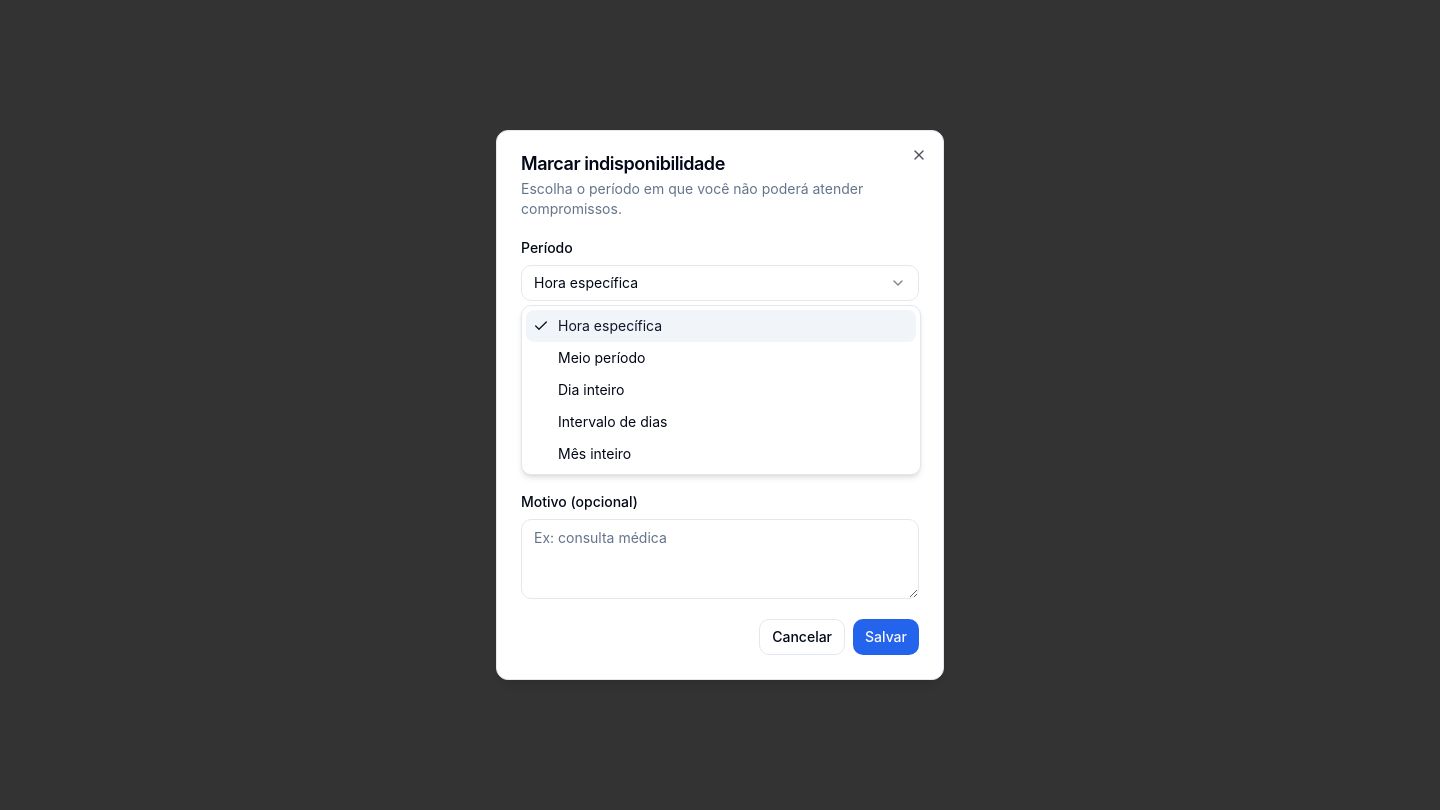
Test: AvailabilityForm › shows the AVAIL-04 message when the range ends before it starts
The image size is (1440, 810).
Earlier steps of the test are not shown.
Click the option "Intervalo de dias". click: {"x": 613, "y": 422}
box: [558, 413, 667, 430]
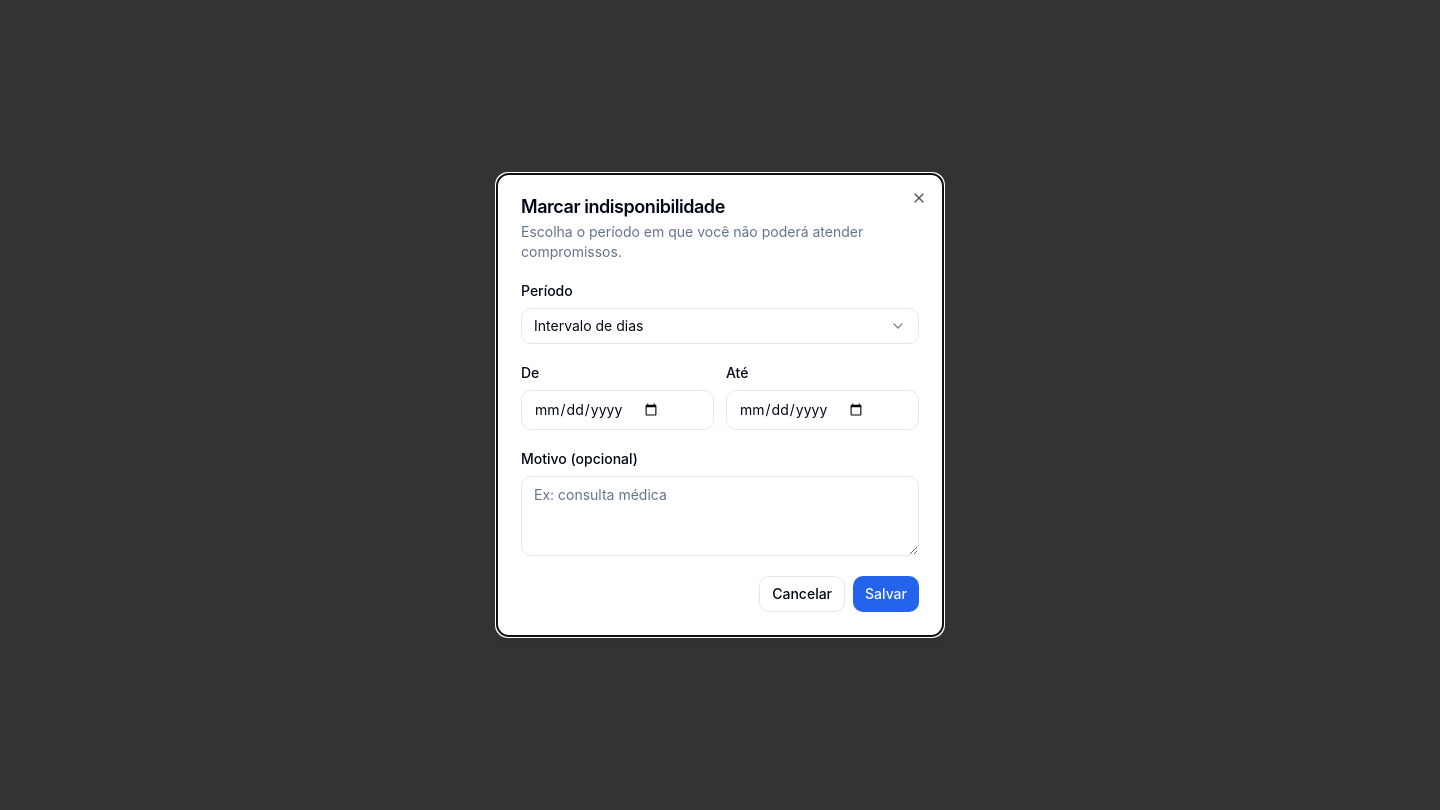
Type "2026-12-31" into the date field labelled "De". click: {"x": 618, "y": 410}
box: [521, 390, 714, 430]
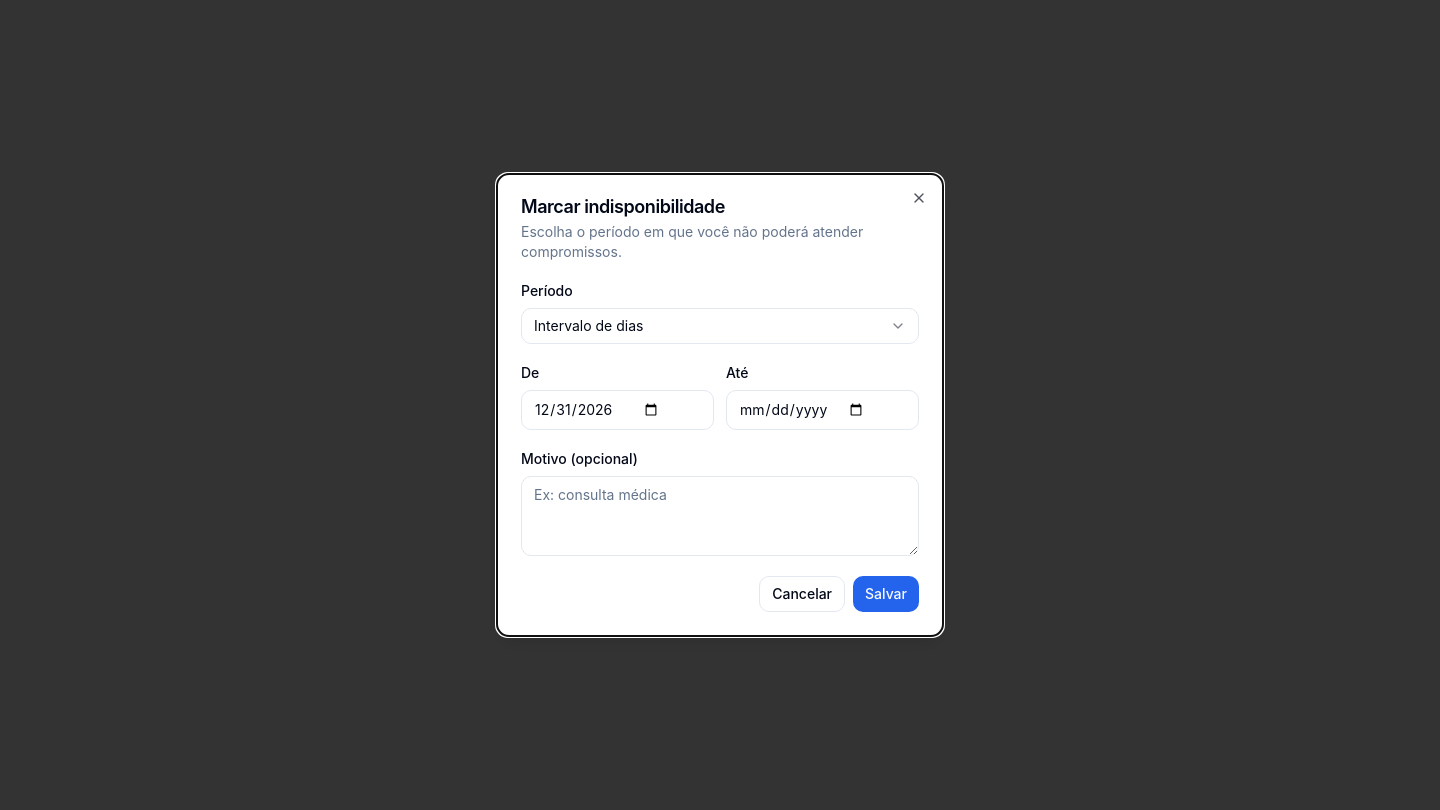
Type "2026-12-01" into the date field labelled "Até". click: {"x": 822, "y": 410}
box: [726, 390, 919, 430]
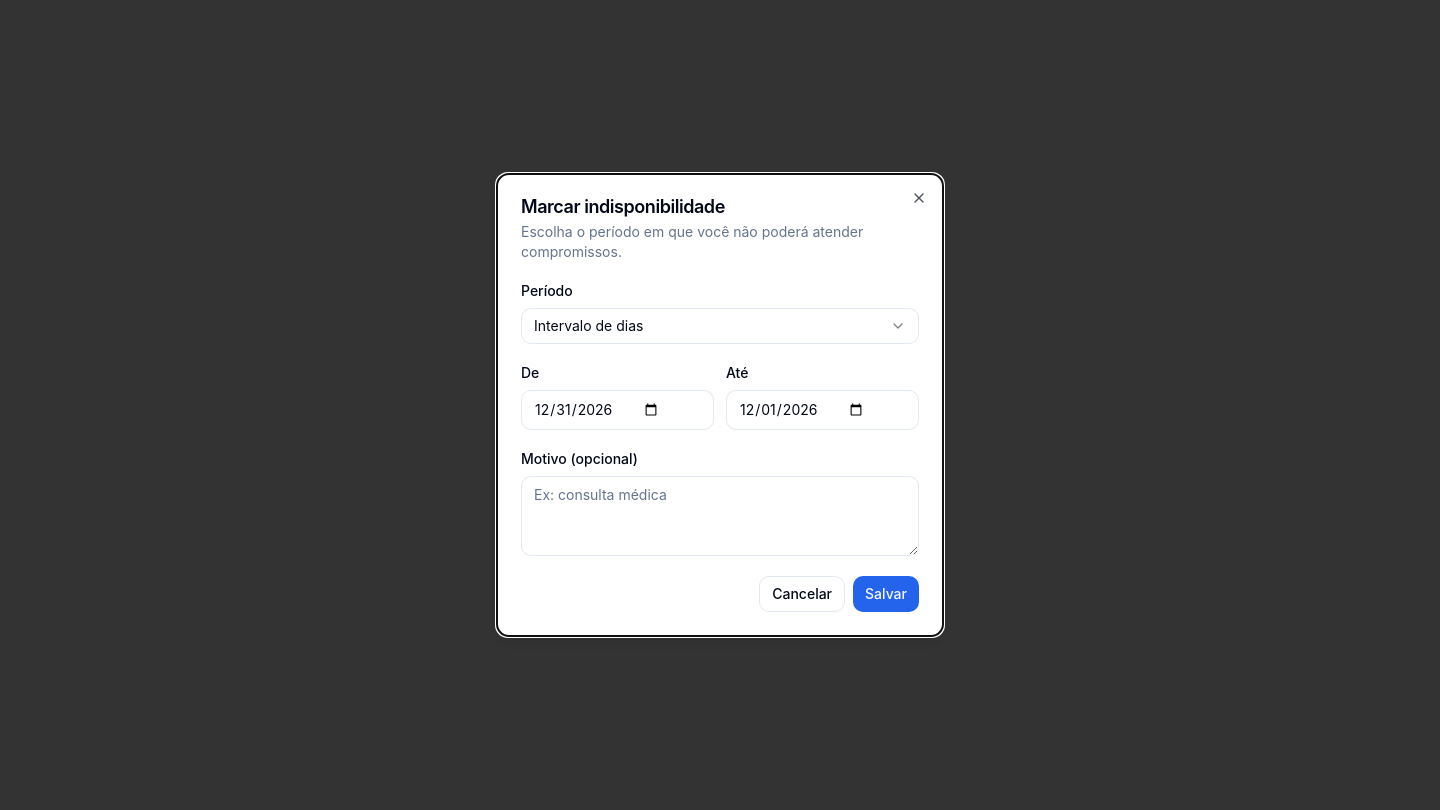
Click the button "Salvar". click: {"x": 886, "y": 594}
box: [853, 576, 919, 612]
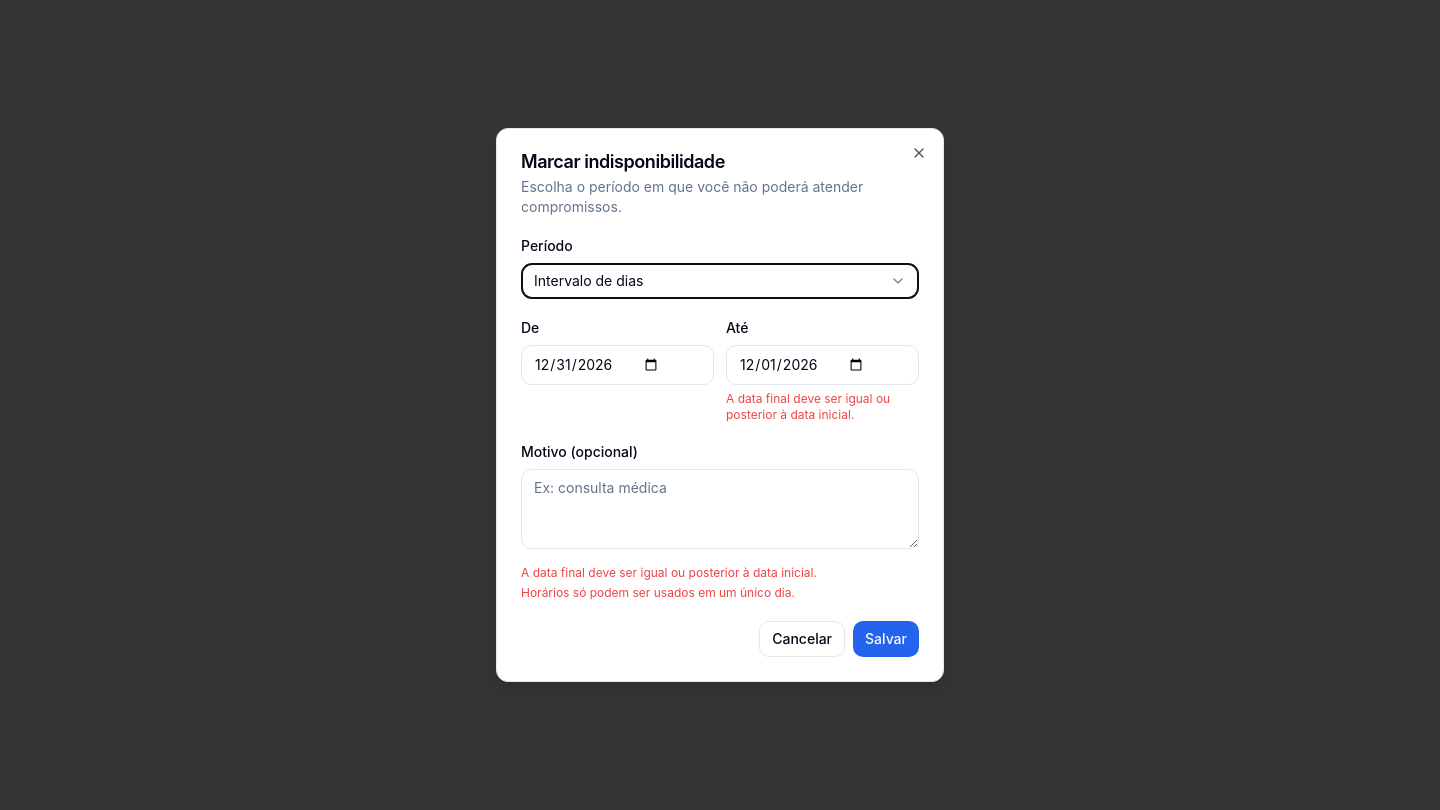
expect the text "A data final deve ser igual ou posterior à data inicial." is shown: met, box [726, 391, 919, 423]
